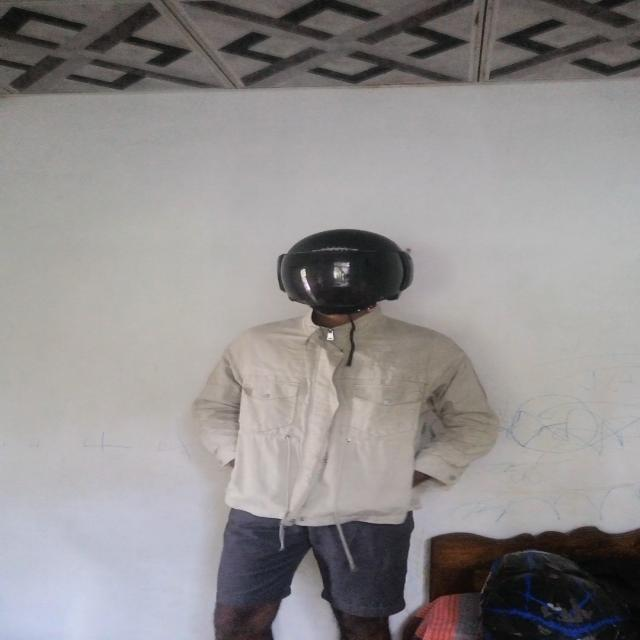Helmet_Wearer: (259, 226, 425, 346)
Jacket_Wearer: (190, 304, 490, 553)
Person: (186, 217, 494, 640)
